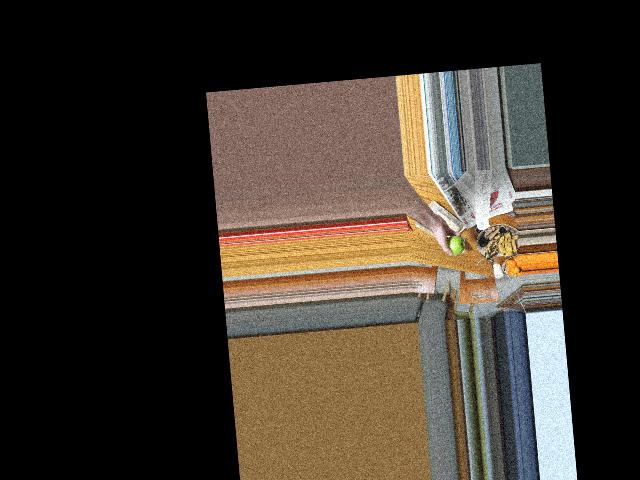apple: (442, 232, 466, 258)
